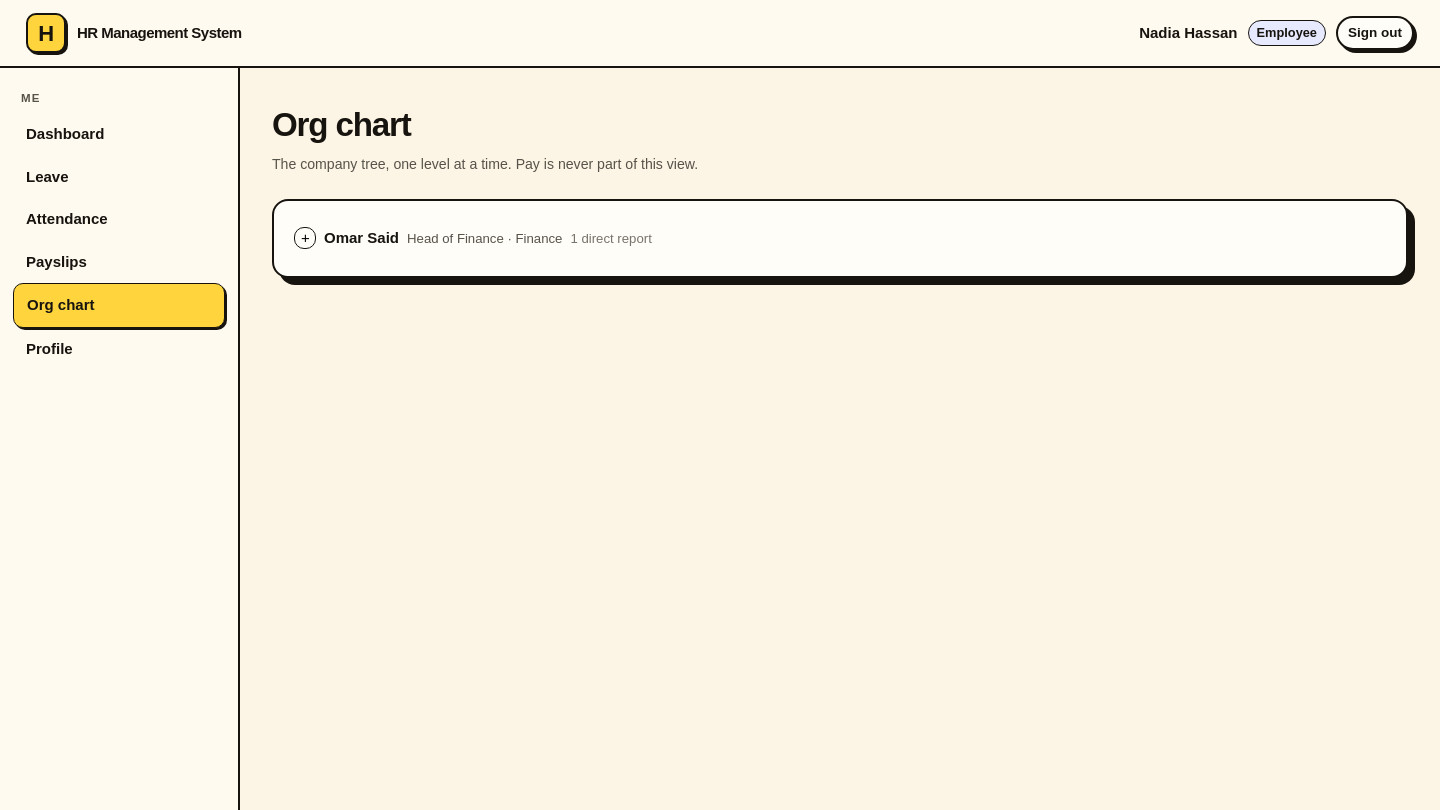
Scenario: org chart › collapses a node, hiding its reports
The image size is (1440, 810).
Click the button named "Expand the reports of Omar Said" at (305, 238), box [294,227,316,249]
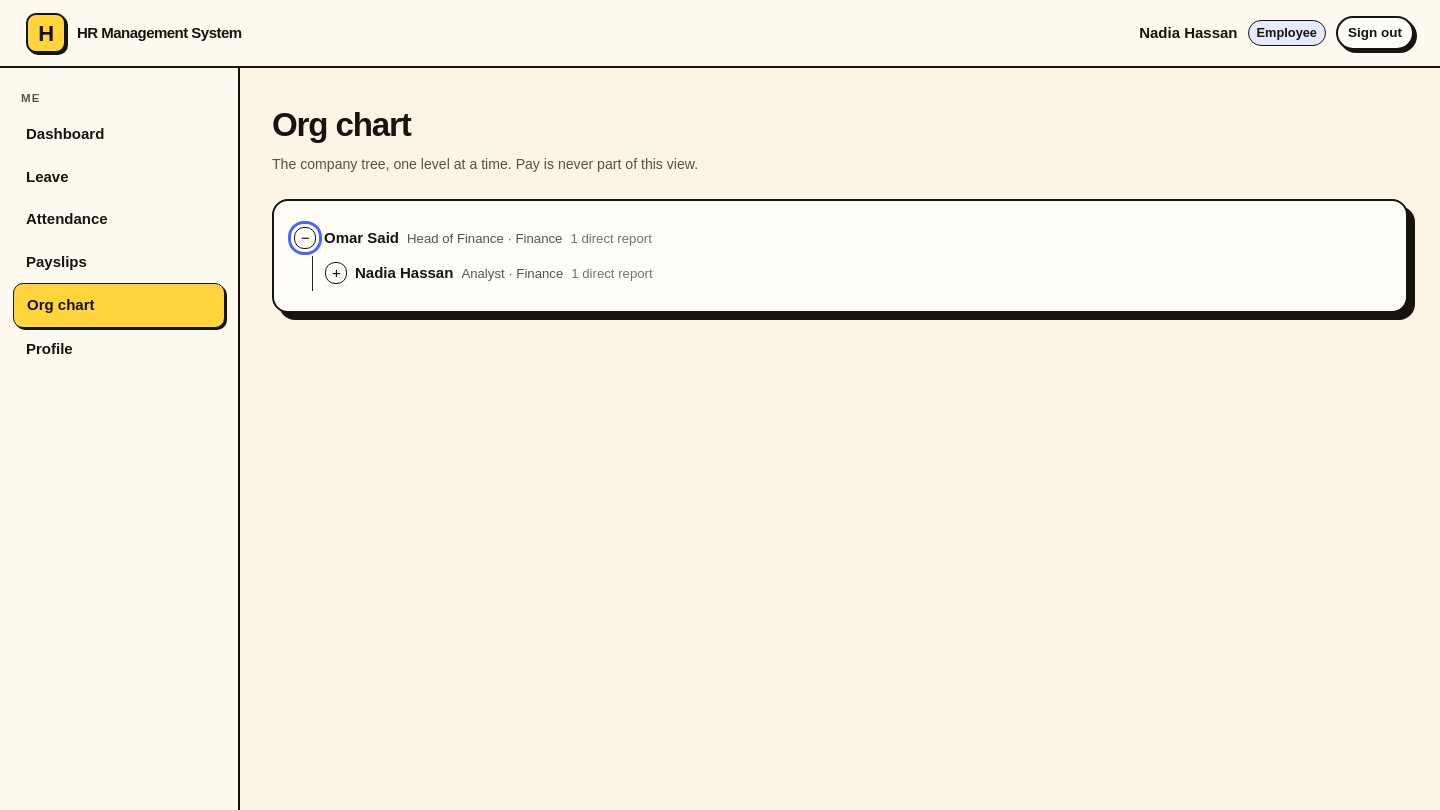
Now the text "Nadia Hassan" next to "Analyst" is shown, box [355,264,453,281]
Click the button named "Collapse the reports of Omar Said" at (305, 238), box [294,227,316,249]
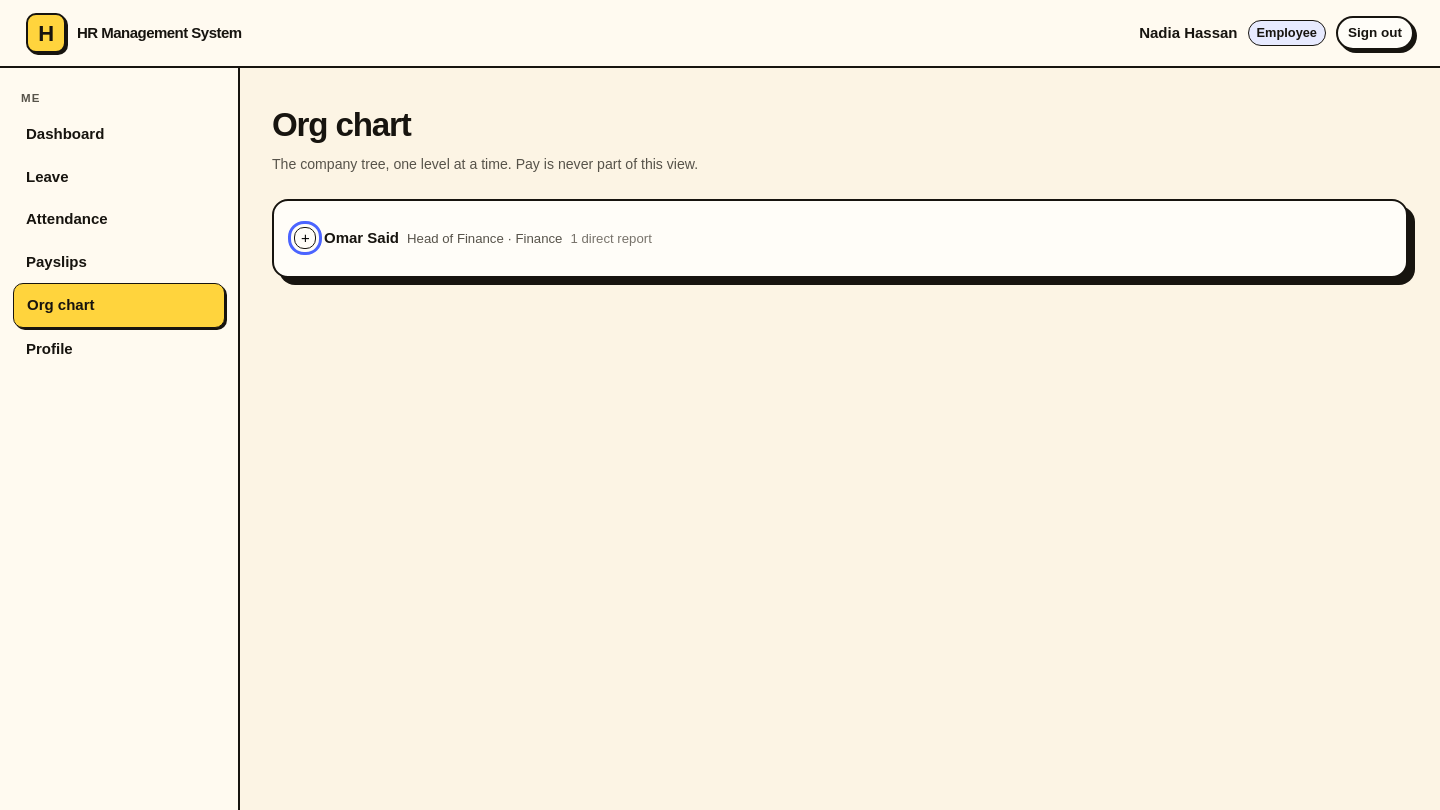
Expected: the text "Omar Said" is shown, [324,227,399,250]
Now the button named "Expand the reports of Omar Said" is collapsed, box [294,227,316,249]
